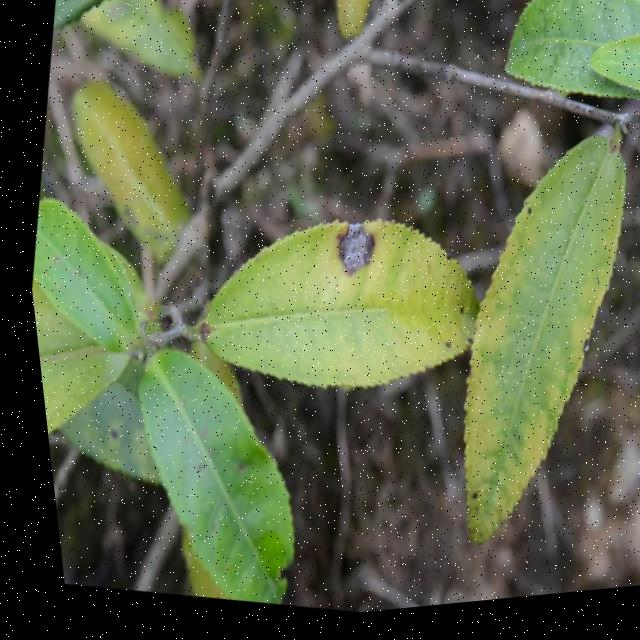Tea red scab: (318, 211, 385, 287)
